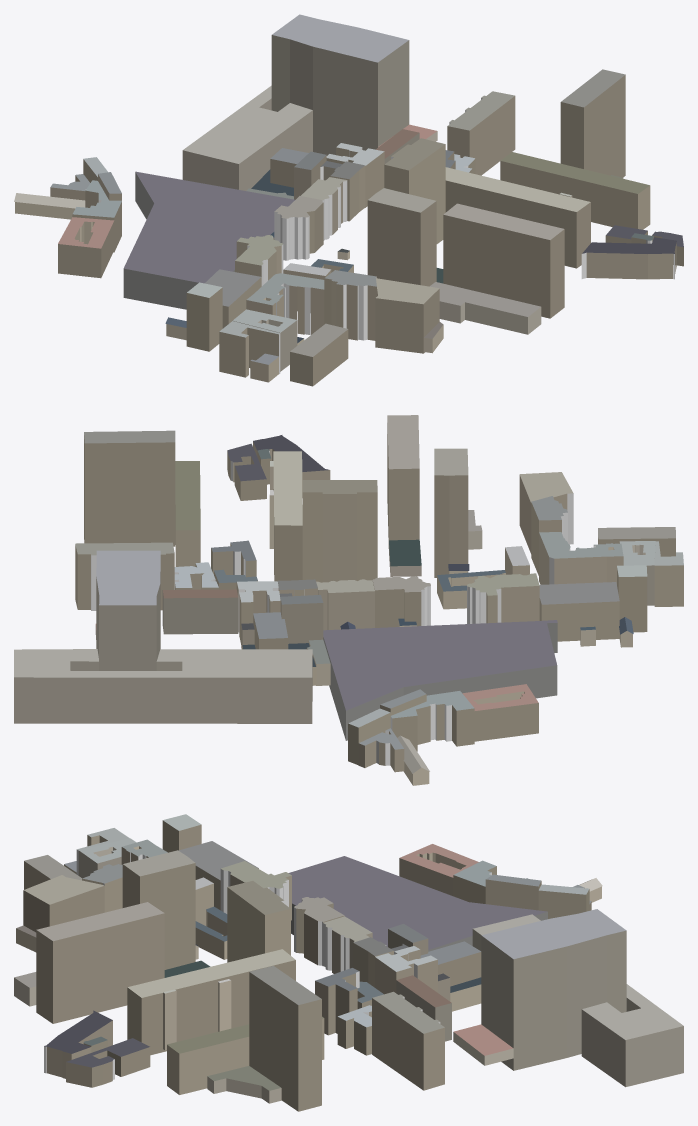
3 views of the same model, one above another, from view 1: azimuth 30°, elevation 25°; view 2: azimuth 150°, elevation 25°; view 3: azimuth 270°, elevation 25° (orthographic). The views are drawn at different scales.
Parts seen in each view (by area): view 1: tuile; view 2: tuile; view 3: tuile.
Boxes of the visible parts, x1=… form: tuile: x1=14, y1=14, x2=683, y2=386; tuile: x1=14, y1=415, x2=683, y2=785; tuile: x1=14, y1=814, x2=683, y2=1111.
Bounding box in the file's own units: 272 × 64.35 × 297.
